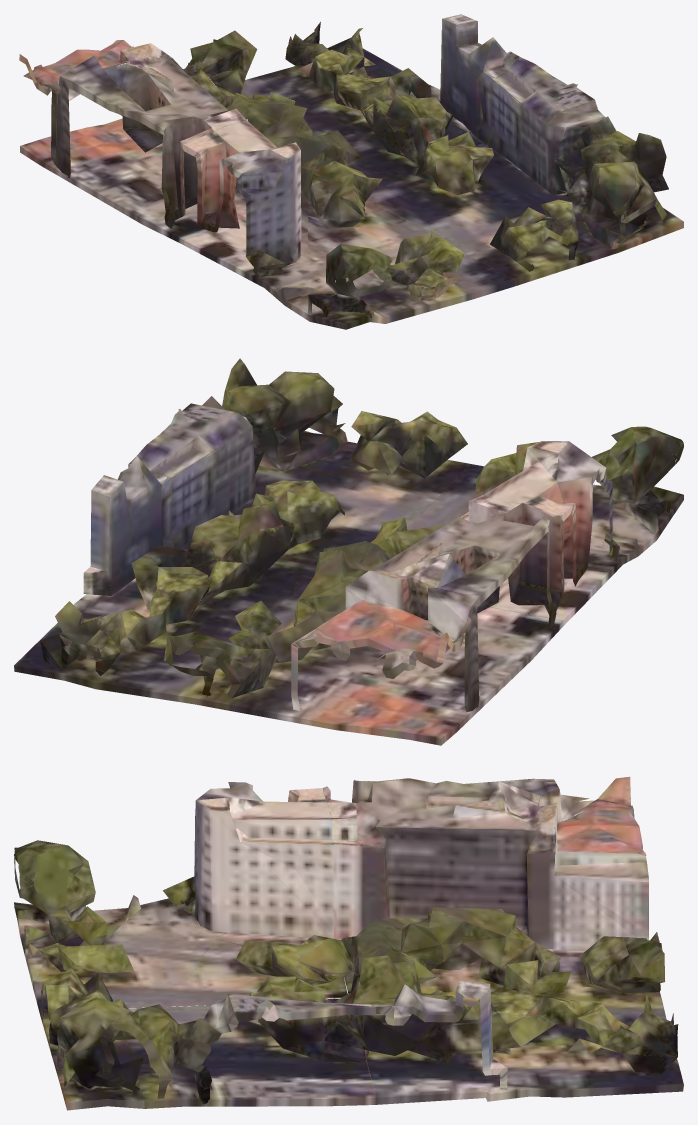
The picture shows the model from 3 angles, top to bottom: view 1: azimuth 30°, elevation 25°; view 2: azimuth 150°, elevation 25°; view 3: azimuth 270°, elevation 25°; orthographic projection. The views are drawn at different scales.
Parts seen in each view (by area): view 1: Mesh_0; view 2: Mesh_0; view 3: Mesh_0.
Boxes of the visible parts, box(x1,y1,x2,y2) form: Mesh_0: box(19, 14, 683, 329); Mesh_0: box(14, 358, 683, 745); Mesh_0: box(14, 776, 683, 1110).
Bounding box in the file's own units: 135 × 38.27 × 165.
2 materials, 2 textured.
